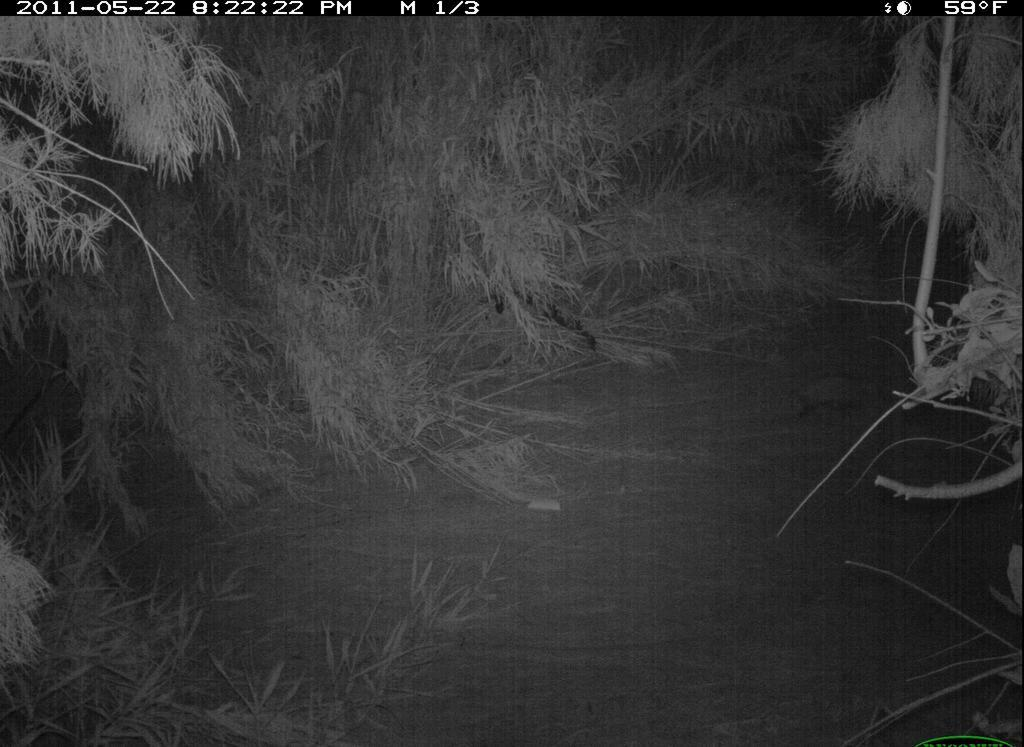opossum: (777, 363, 888, 428)
